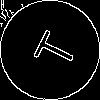T: (25, 25, 79, 73)
